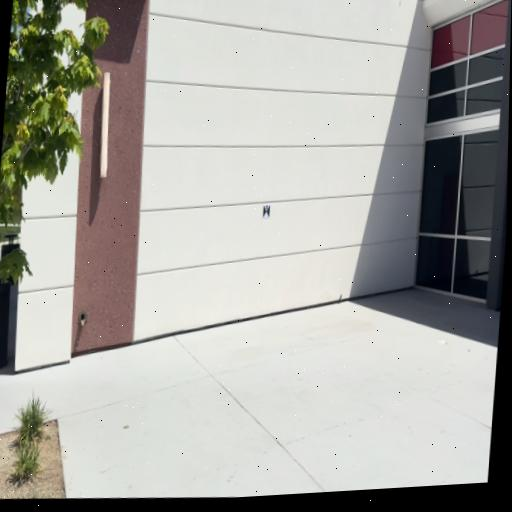target0: (263, 203, 271, 220)
